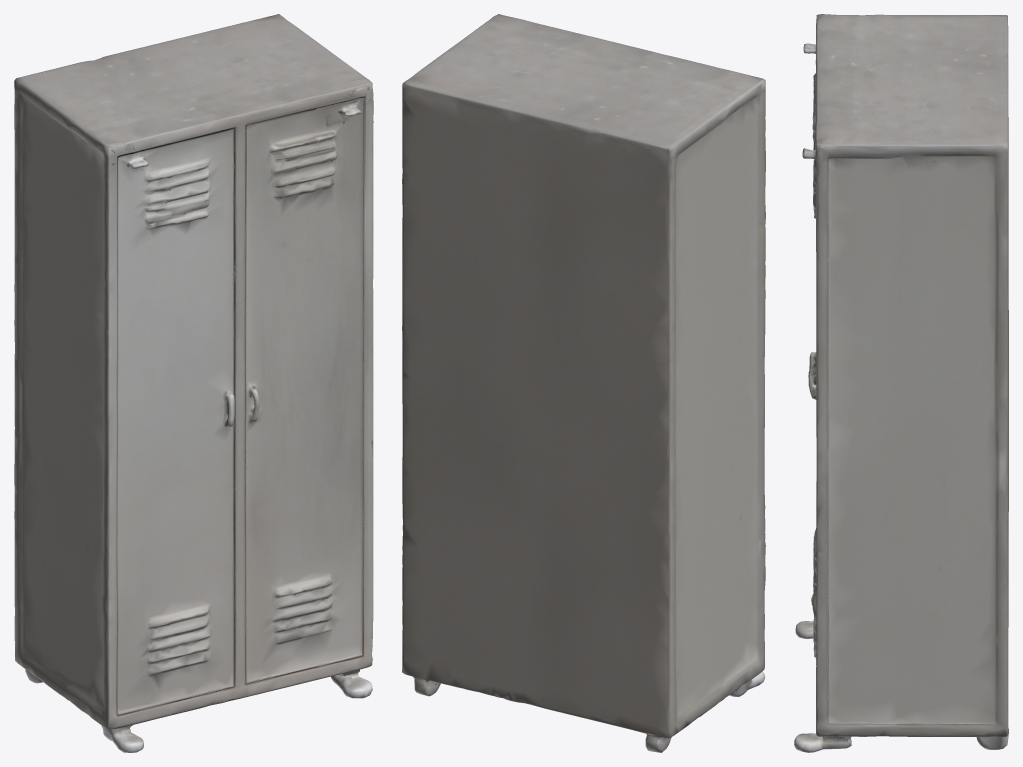
File: Meshy_AI_estanteria_de_metal_0323192340_texture.glb
3 renders of one model, left to right at view 1: azimuth 30°, elevation 25°; view 2: azimuth 150°, elevation 25°; view 3: azimuth 270°, elevation 25°, orthographic.
Bounding box in the file's own units: 0.924 × 2 × 0.6362.
1 material, 1 textured.
